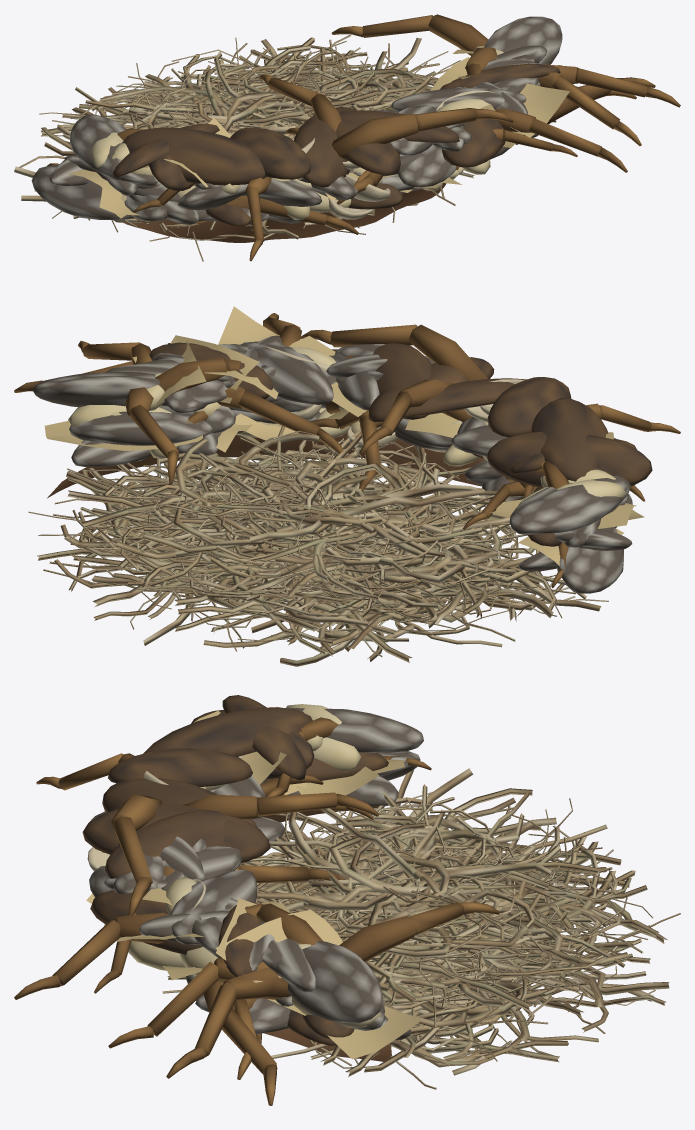
File: nursery.gltf
3 renders of one model, top to bottom at view 1: azimuth 30°, elevation 25°; view 2: azimuth 150°, elevation 25°; view 3: azimuth 270°, elevation 25°, orthographic. The views are drawn at different scales.
Visible parts, largest first — view 1: nursery_bed, heap_125, nursery_ledge, heap_138, heap_167, heap_131, heap_002, heap_137, heap_169, heap_115, heap_098, heap_097 (+34 smaller); view 2: nursery_bed, heap_115, heap_125, heap_121, heap_138, heap_169, heap_154, heap_111, nursery_ledge, heap_131, heap_002, heap_137 (+33 smaller); view 3: nursery_bed, heap_169, heap_125, heap_131, heap_144, heap_108, heap_167, heap_139, heap_115, heap_141, heap_154, heap_098 (+32 smaller).
Part boxes in pixels (left/top/right/bottom): nursery_bed: left=14, top=35, right=474, bottom=261; heap_125: left=122, top=127, right=266, bottom=185; nursery_ledge: left=123, top=183, right=446, bottom=242; heap_138: left=332, top=108, right=513, bottom=161; heap_167: left=331, top=14, right=488, bottom=55; heap_131: left=230, top=127, right=310, bottom=179; heap_002: left=31, top=164, right=133, bottom=219; heap_137: left=294, top=115, right=349, bottom=187; heap_169: left=484, top=16, right=562, bottom=64; heap_115: left=70, top=114, right=126, bottom=179; heap_098: left=495, top=108, right=627, bottom=172; heap_097: left=441, top=119, right=505, bottom=167; nursery_bed: left=28, top=425, right=608, bottom=666; heap_115: left=509, top=476, right=630, bottom=534; heap_125: left=531, top=398, right=607, bottom=481; heap_121: left=486, top=431, right=652, bottom=487; heap_138: left=300, top=324, right=487, bottom=381; heap_169: left=32, top=371, right=162, bottom=407; heap_154: left=240, top=341, right=333, bottom=404; heap_111: left=69, top=411, right=212, bottom=445; nursery_ledge: left=47, top=432, right=535, bottom=616; heap_131: left=487, top=377, right=571, bottom=437; heap_002: left=556, top=527, right=623, bottom=593; heap_137: left=403, top=378, right=526, bottom=417; nursery_bed: left=162, top=768, right=680, bottom=1089; heap_169: left=287, top=941, right=383, bottom=1023; heap_125: left=143, top=707, right=312, bottom=756; heap_131: left=108, top=748, right=252, bottom=786; heap_144: left=105, top=809, right=229, bottom=878; heap_108: left=166, top=967, right=291, bottom=1078; heap_167: left=339, top=902, right=499, bottom=962; heap_139: left=182, top=792, right=379, bottom=819; heap_115: left=286, top=707, right=423, bottom=752; heap_141: left=82, top=804, right=270, bottom=862; heap_154: left=170, top=869, right=257, bottom=944; heap_098: left=14, top=912, right=170, bottom=999.
Bounding box in the file's own units: 5.38 × 1.22 × 4.29.
